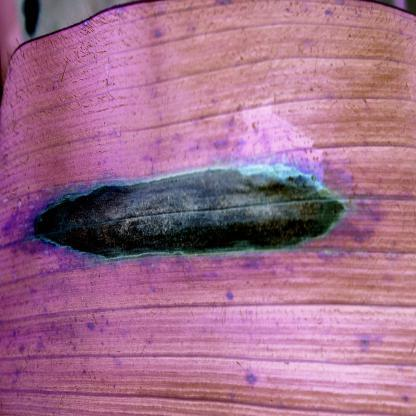Corn leaf blight: (0, 23, 416, 396)
